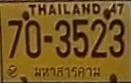0: (24, 20, 40, 57)
2: (90, 18, 106, 57)
3: (108, 19, 124, 56), (55, 19, 70, 57)
5: (72, 18, 88, 57)
7: (7, 19, 22, 58)
MKM: (32, 63, 102, 79)
